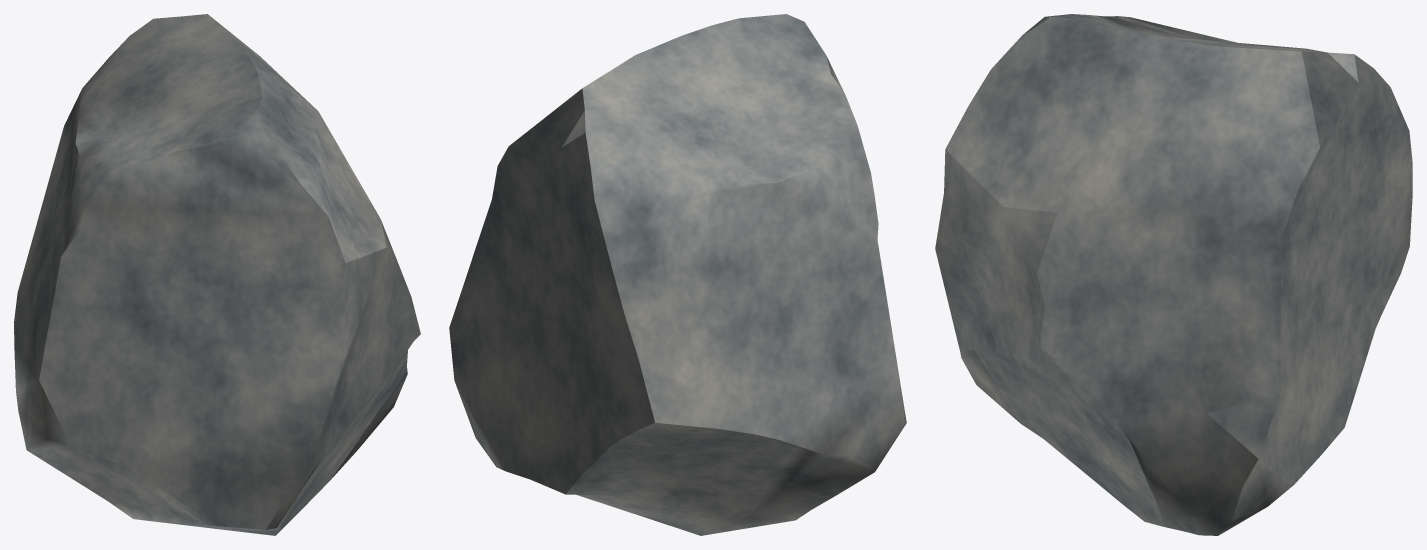
File: rock_mobile.glb
3 renders of one model, left to right at view 1: azimuth 30°, elevation 25°; view 2: azimuth 150°, elevation 25°; view 3: azimuth 270°, elevation 25°, orthographic. The views are drawn at different scales.
Parts seen in each view (by area): view 1: Rock_Mobile; view 2: Rock_Mobile; view 3: Rock_Mobile.
Boxes of the visible parts, box(x1,y1,x2,y2) form: Rock_Mobile: box(14, 14, 420, 535); Rock_Mobile: box(449, 14, 906, 535); Rock_Mobile: box(935, 14, 1412, 535).
Bounding box in the file's own units: 1.84 × 2.16 × 1.95.
1 material, 1 textured.
